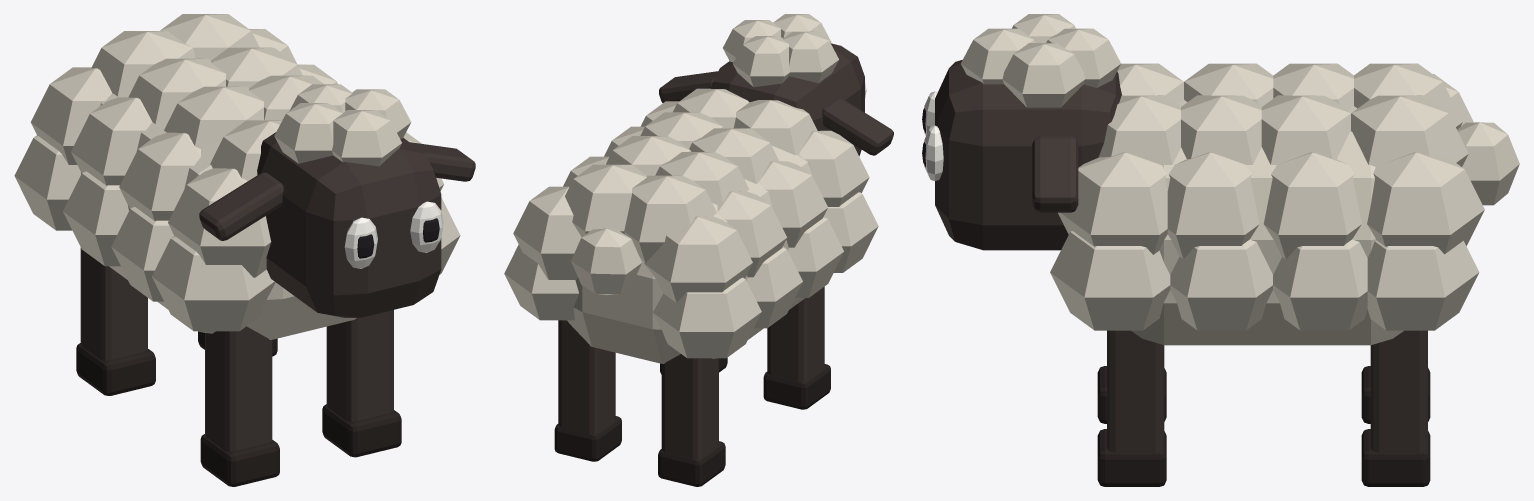
Rendered from sheep_white.glb.
3 views of the same model, side by side, from view 1: azimuth 30°, elevation 25°; view 2: azimuth 150°, elevation 25°; view 3: azimuth 270°, elevation 25° (orthographic). The views are drawn at different scales.
Parts seen in each view (by area): view 1: body_mesh, head_mesh, leg_fr_mesh, leg_fl_mesh, leg_br_mesh, ear_r_mesh, ear_l_mesh; view 2: body_mesh, head_mesh, leg_br_mesh, leg_bl_mesh, leg_fr_mesh, tail_mesh, ear_r_mesh, ear_l_mesh; view 3: body_mesh, head_mesh, leg_fl_mesh, leg_bl_mesh, tail_mesh, ear_l_mesh, leg_fr_mesh, leg_br_mesh.
Part boxes in pixels (<box>): body_mesh: <box>14,14,460,339</box>; head_mesh: <box>257,84,443,317</box>; leg_fr_mesh: <box>200,326,279,486</box>; leg_fl_mesh: <box>322,310,401,457</box>; leg_br_mesh: <box>76,247,155,395</box>; ear_r_mesh: <box>199,172,283,240</box>; ear_l_mesh: <box>410,142,475,181</box>; body_mesh: <box>504,88,878,363</box>; head_mesh: <box>711,14,866,156</box>; leg_br_mesh: <box>658,354,725,486</box>; leg_bl_mesh: <box>554,320,621,461</box>; leg_fr_mesh: <box>763,286,830,409</box>; tail_mesh: <box>571,228,641,295</box>; ear_r_mesh: <box>822,97,893,155</box>; ear_l_mesh: <box>659,71,717,102</box>; body_mesh: <box>1050,63,1484,345</box>; head_mesh: <box>922,14,1121,250</box>; leg_fl_mesh: <box>1097,330,1166,486</box>; leg_bl_mesh: <box>1361,330,1430,486</box>; tail_mesh: <box>1457,122,1519,205</box>; ear_l_mesh: <box>1032,136,1078,212</box>; leg_fr_mesh: <box>1097,366,1166,423</box>; leg_br_mesh: <box>1361,366,1430,423</box>.
Size of the model in its own units: 0.5847 by 0.7982 by 1.04.
